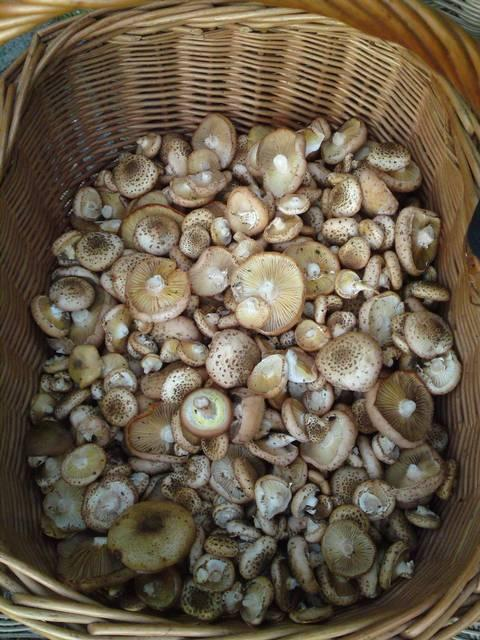Edible Mushroom: (24, 111, 463, 625)
